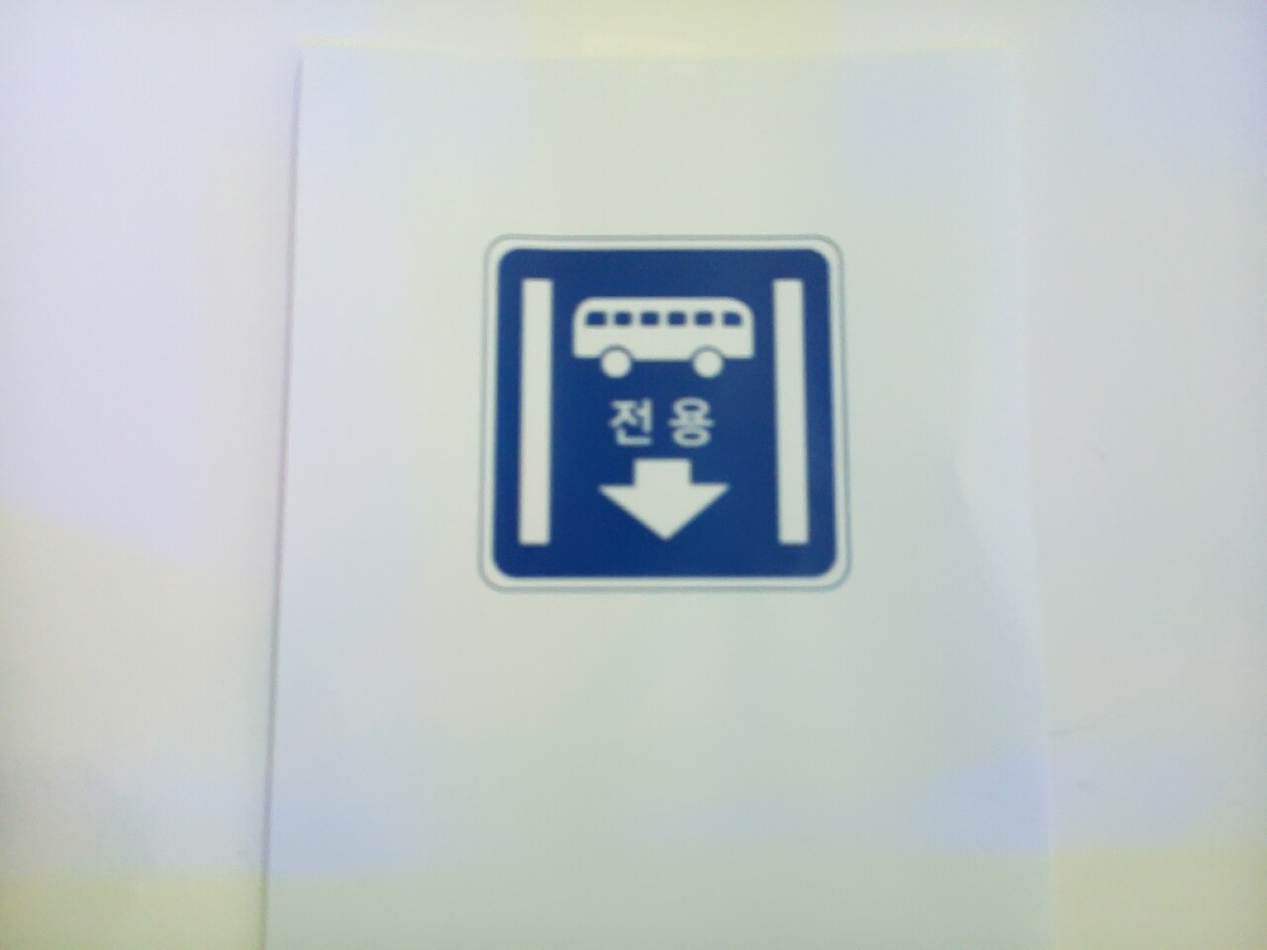bus_only_lane: (482, 238, 847, 588)
